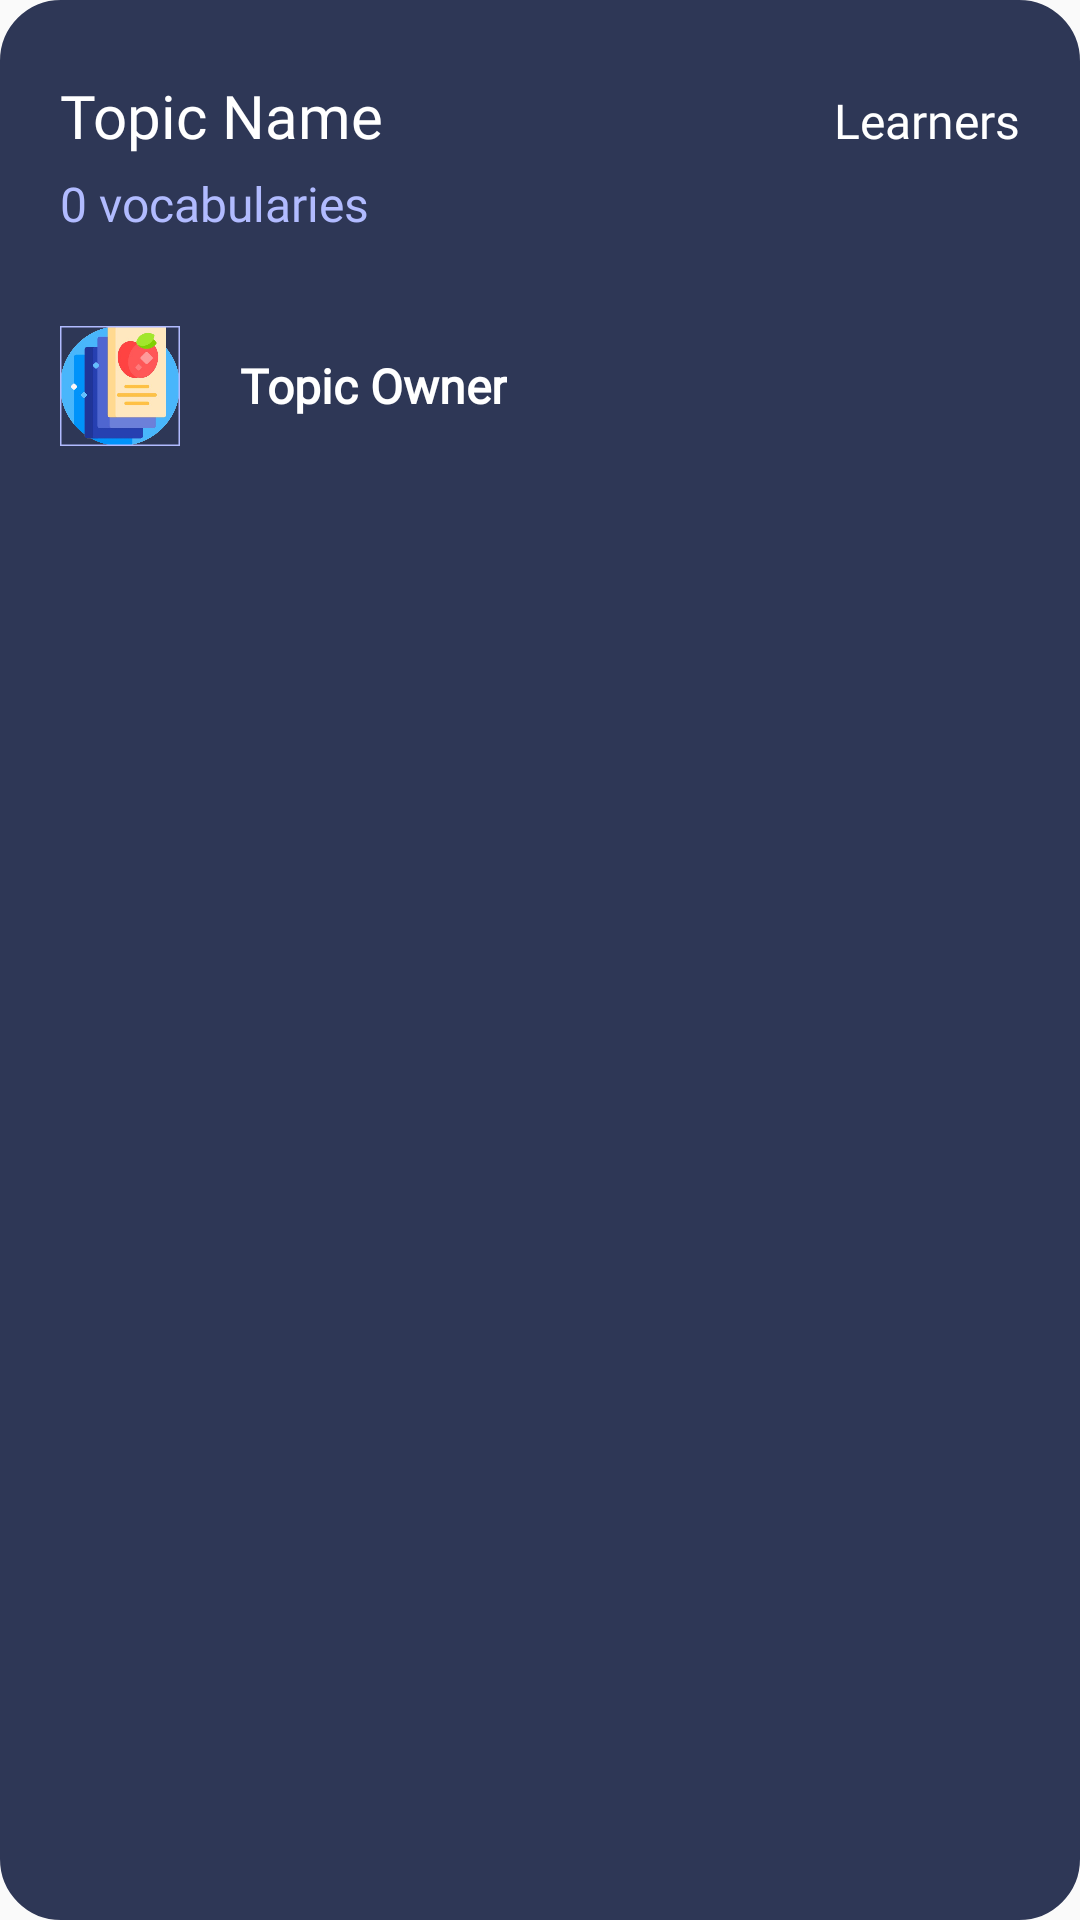

Point at icon controls on the screen. Image size 1080 x 1920, points as [x,y].
flashcard: [120,386]
